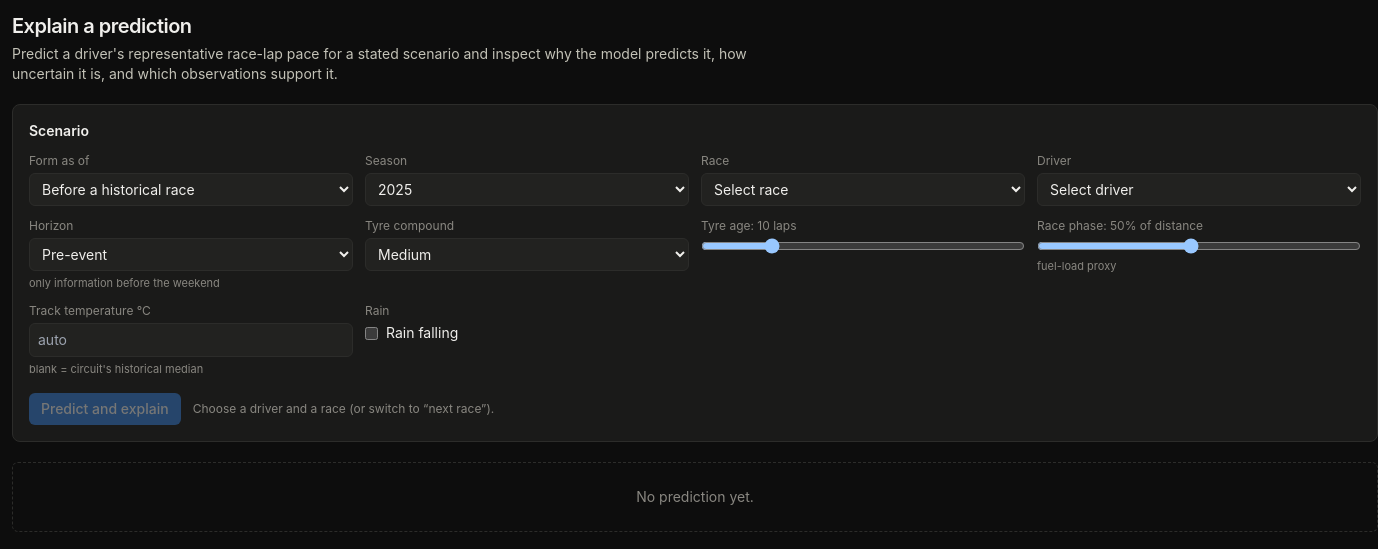
Explain a prediction › requires a driver and race before predicting
The width and height of the screenshot is (1378, 549).
Check: the button "Predict and explain" is disabled, box [29,393,181,425]
Select "Alpha Driver" in the dropdown labelled "Driver" at point(1199, 190), box [1037,173,1361,206]
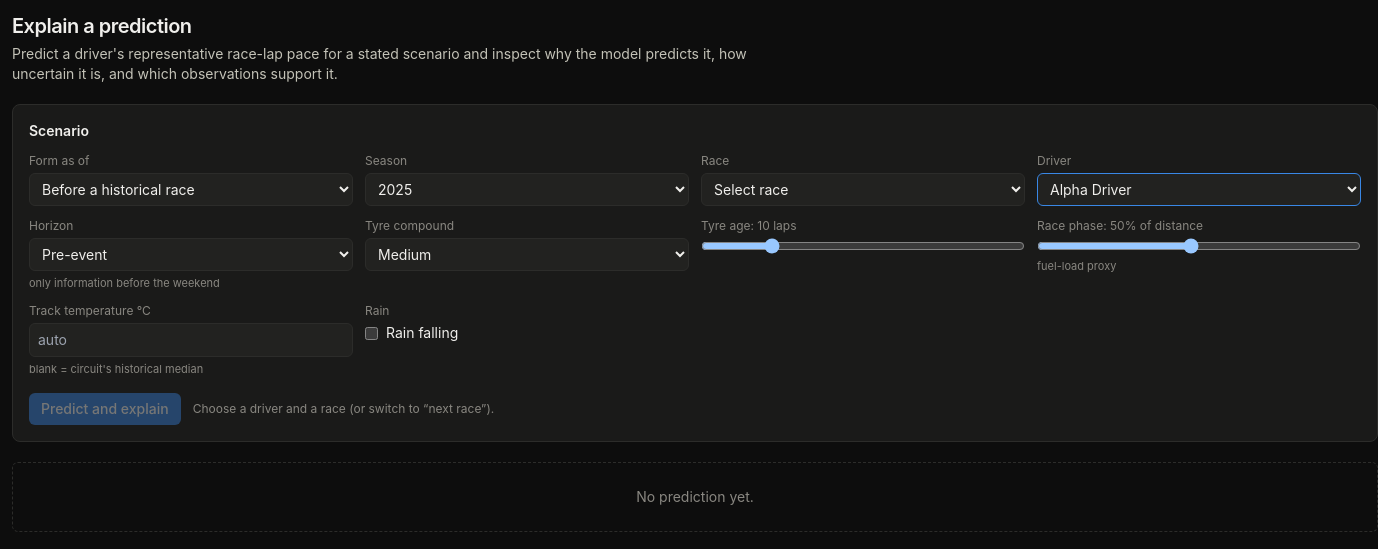
Select "12. Silverstone" in the dropdown labelled "Race" at point(863, 190), box [701,173,1025,206]
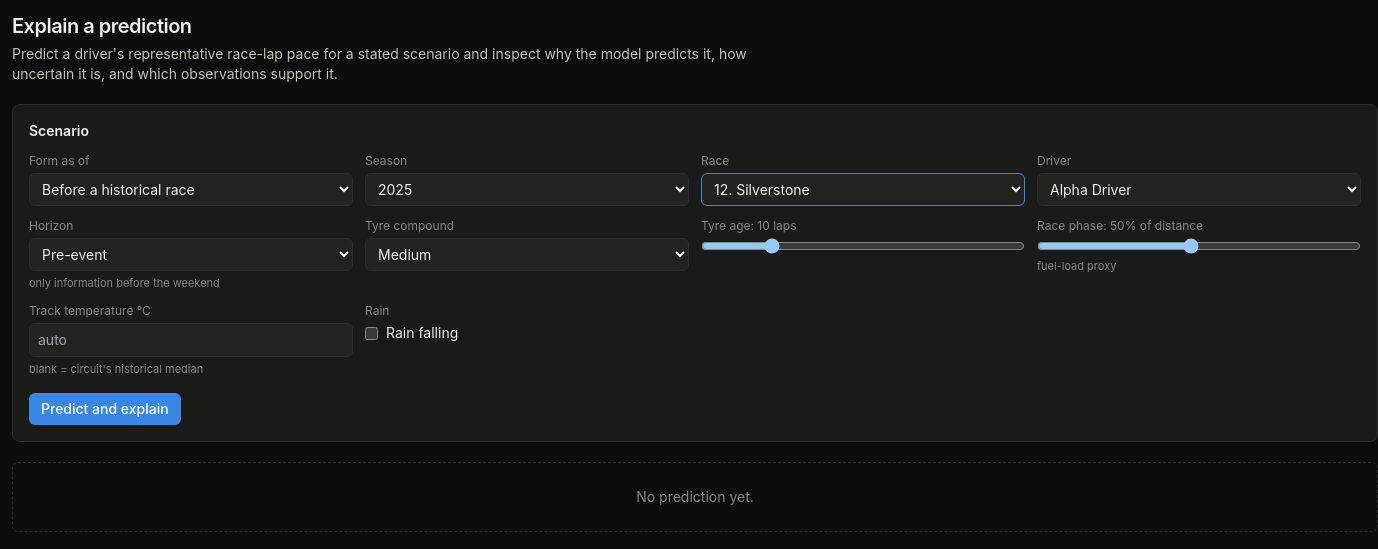
Check: the button "Predict and explain" is enabled, box [29,393,181,425]
